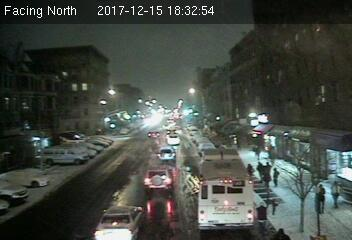bus: (198, 150, 256, 230)
car: (94, 204, 145, 240), (143, 164, 174, 193), (157, 145, 175, 162)
pedestrian: (272, 167, 279, 187)
